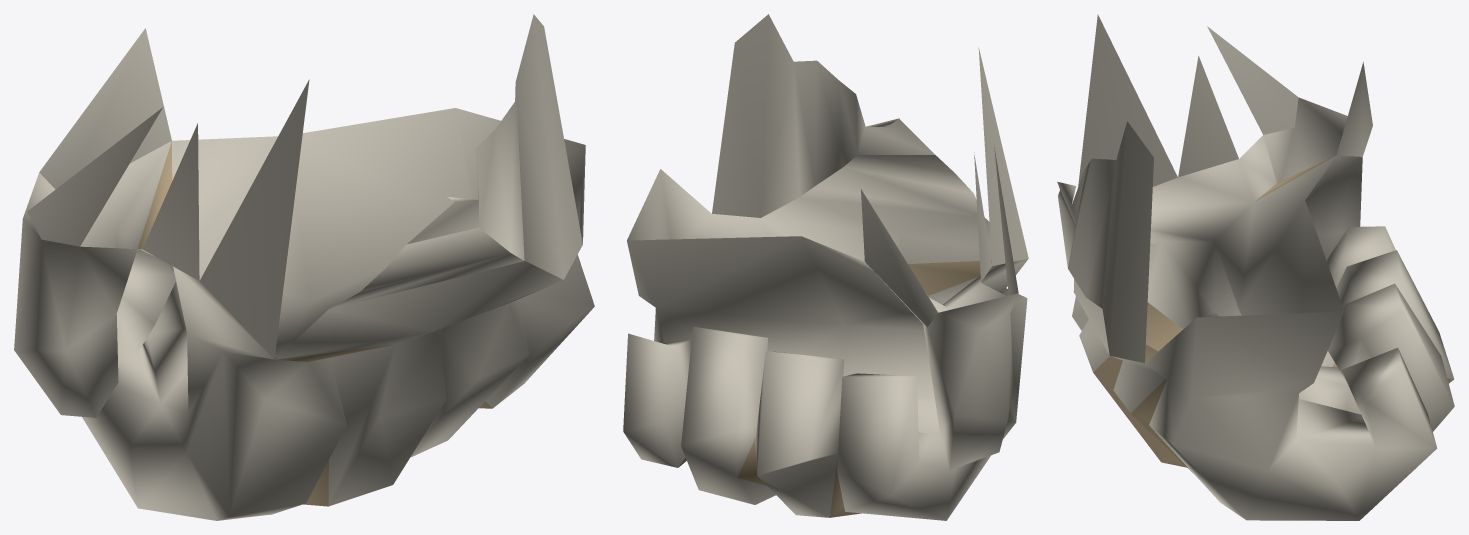
Rendered from GolemFist.glb.
3 views of the same model, side by side, from view 1: azimuth 30°, elevation 25°; view 2: azimuth 150°, elevation 25°; view 3: azimuth 270°, elevation 25° (orthographic). The views are drawn at different scales.
Visible parts, largest first — view 1: GolemFist_Bend.006, PART_GolemFist.006; view 2: GolemFist_Bend.006, PART_GolemFist.006; view 3: GolemFist_Bend.006, PART_GolemFist.006.
Part boxes in pixels (x1,y1,x2,y2): GolemFist_Bend.006: (14,108,594,520); PART_GolemFist.006: (27,14,582,359); GolemFist_Bend.006: (623,155,1028,520); PART_GolemFist.006: (712,14,1028,326); GolemFist_Bend.006: (1058,97,1454,520); PART_GolemFist.006: (1057,14,1372,363).
Bounding box in the file's own units: 0.4883 × 0.4715 × 0.3911.
